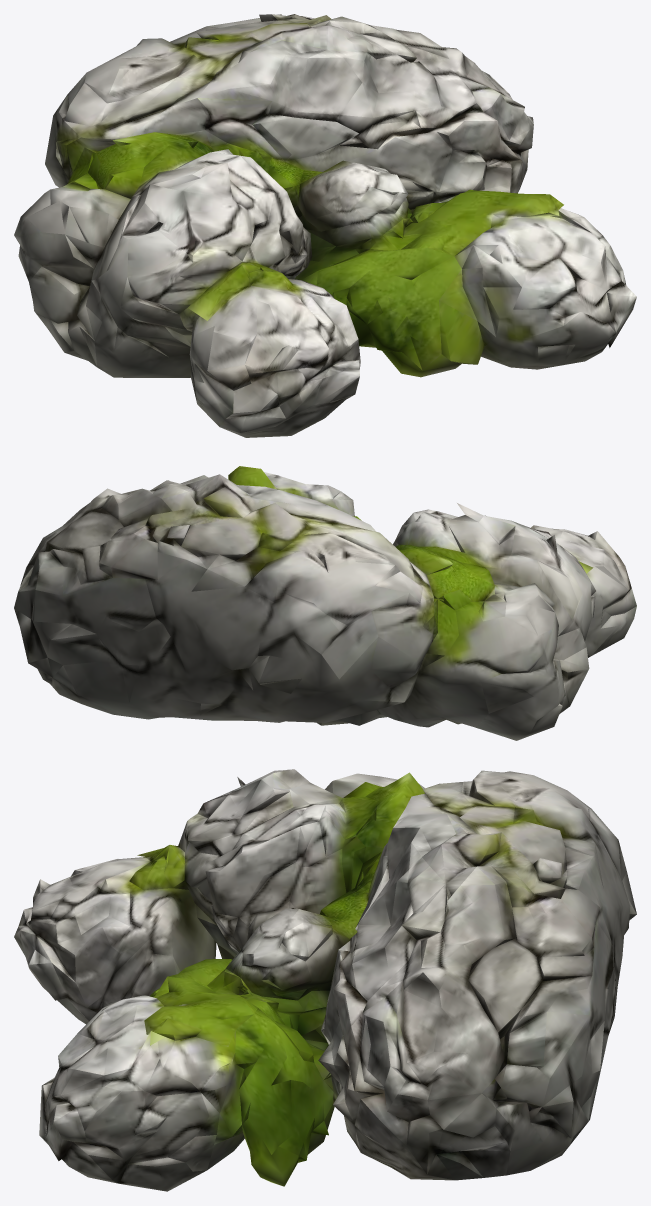
Rendered from m2SeaRock.glb.
The picture shows the model from 3 angles, top to bottom: view 1: azimuth 30°, elevation 25°; view 2: azimuth 150°, elevation 25°; view 3: azimuth 270°, elevation 25°; orthographic projection. The views are drawn at different scales.
Visible parts, largest first — view 1: model; view 2: model; view 3: model.
Part boxes in pixels (bbox=[...]): model: bbox=[14, 14, 636, 437]; model: bbox=[14, 466, 636, 740]; model: bbox=[14, 769, 636, 1191].
Size of the model in its own units: 1.91 by 0.9254 by 1.76.
Materials: 1 (1 with a texture image).
